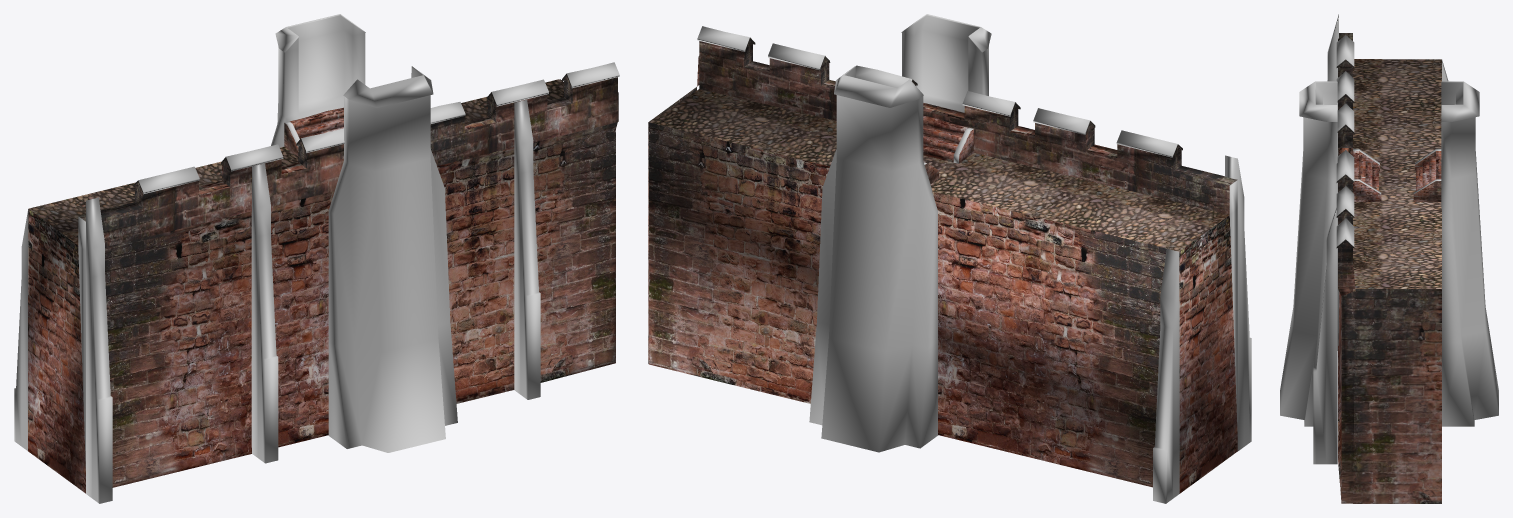
The model's file is WallA.fbx.
3 renders of one model, left to right at view 1: azimuth 30°, elevation 25°; view 2: azimuth 150°, elevation 25°; view 3: azimuth 270°, elevation 25°, orthographic. The views are drawn at different scales.
Parts seen in each view (by area): view 1: wallA; view 2: wallA; view 3: wallA.
Part boxes in pixels (x1,y1,x2,y2): wallA: (14,14,619,503); wallA: (648,14,1251,503); wallA: (1280,14,1498,503).
Bounding box in the file's own units: 590 × 371 × 237.
